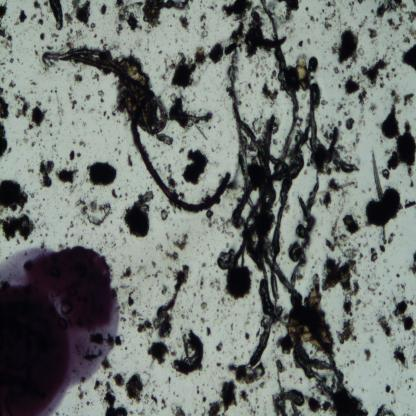Background material: (280, 274, 340, 356), (378, 101, 416, 179), (153, 264, 190, 338), (311, 128, 358, 180), (212, 249, 253, 300), (168, 93, 214, 136), (121, 191, 158, 240), (325, 211, 362, 260), (0, 211, 46, 249), (172, 329, 206, 378), (378, 293, 414, 339), (365, 186, 401, 228), (272, 369, 304, 416), (245, 9, 274, 58), (319, 255, 359, 290), (141, 0, 191, 28), (361, 50, 397, 88), (92, 358, 126, 398), (124, 372, 162, 406), (162, 52, 195, 91), (74, 198, 112, 228), (228, 362, 269, 388), (0, 179, 30, 214), (286, 51, 311, 90), (116, 0, 143, 35), (330, 392, 369, 416), (86, 160, 116, 191), (388, 10, 416, 43), (182, 149, 209, 183), (338, 25, 360, 65), (368, 142, 384, 196), (320, 178, 346, 209), (127, 309, 154, 338), (223, 21, 245, 56), (220, 0, 256, 21), (239, 385, 261, 416), (207, 217, 236, 240), (102, 392, 128, 416), (146, 340, 169, 367), (37, 157, 55, 191), (120, 265, 152, 284), (222, 378, 239, 412), (12, 90, 30, 122), (336, 319, 358, 344), (47, 0, 64, 31), (372, 0, 394, 23), (274, 0, 298, 21), (74, 0, 92, 27), (342, 73, 362, 97), (30, 99, 48, 125), (162, 161, 178, 189), (228, 204, 246, 228), (399, 46, 416, 71), (55, 165, 77, 184), (194, 45, 208, 74), (262, 84, 278, 109), (209, 42, 226, 64), (321, 0, 338, 22), (337, 98, 358, 115), (394, 345, 408, 370), (0, 88, 11, 119), (155, 132, 175, 149), (66, 28, 82, 49), (0, 119, 8, 159), (172, 234, 189, 252), (342, 292, 354, 317), (0, 34, 13, 56), (207, 401, 226, 416), (54, 89, 64, 117), (375, 403, 396, 416), (310, 391, 321, 414), (0, 1, 9, 29), (179, 14, 191, 35), (358, 86, 368, 111), (96, 2, 110, 18), (197, 124, 210, 141), (97, 232, 108, 252), (408, 250, 416, 277), (171, 401, 185, 416), (252, 117, 264, 134), (164, 249, 178, 263), (126, 288, 136, 307), (274, 357, 286, 372), (390, 88, 400, 105), (103, 42, 120, 52), (367, 26, 380, 39), (252, 61, 266, 73), (380, 225, 388, 246), (130, 40, 142, 54), (210, 277, 221, 292), (68, 90, 77, 108), (160, 208, 171, 222), (402, 93, 413, 107), (63, 12, 73, 27), (352, 280, 362, 295), (330, 42, 340, 56), (229, 180, 239, 194), (261, 56, 270, 71), (321, 401, 332, 413), (347, 179, 358, 191), (403, 199, 416, 209), (370, 246, 378, 262), (322, 130, 333, 141), (395, 0, 406, 11), (73, 72, 84, 83), (352, 132, 360, 147), (85, 22, 97, 32), (284, 24, 294, 36), (363, 348, 372, 361), (117, 303, 126, 316), (77, 386, 85, 400), (381, 166, 389, 180), (244, 312, 251, 328), (358, 14, 366, 28), (367, 285, 377, 296), (153, 268, 164, 278), (116, 335, 126, 346), (215, 341, 224, 353), (172, 190, 185, 198), (154, 243, 164, 253), (173, 338, 183, 348), (345, 120, 354, 131), (33, 1, 42, 12), (369, 101, 376, 115), (199, 30, 211, 38), (128, 152, 134, 168), (357, 46, 365, 58), (399, 282, 407, 294), (246, 83, 254, 95), (198, 276, 205, 289), (118, 284, 131, 291), (69, 184, 78, 194), (357, 115, 366, 125), (348, 0, 353, 18), (384, 383, 392, 394), (144, 24, 152, 35), (268, 69, 276, 80), (20, 9, 26, 23), (116, 226, 125, 235), (378, 242, 386, 252), (136, 408, 146, 416), (44, 43, 54, 51), (161, 283, 167, 296), (67, 221, 74, 232), (160, 400, 167, 411), (338, 15, 342, 34), (324, 23, 332, 32), (69, 149, 75, 161), (337, 146, 346, 154), (93, 70, 99, 82), (199, 13, 207, 22), (315, 345, 321, 357), (0, 29, 7, 39), (86, 107, 96, 114), (51, 32, 58, 42), (143, 45, 150, 55), (334, 64, 341, 74), (111, 189, 118, 199), (194, 384, 200, 395), (388, 233, 394, 244), (288, 45, 296, 53), (322, 100, 330, 108), (344, 154, 352, 162), (298, 39, 306, 47), (150, 407, 158, 415), (29, 78, 37, 86), (98, 89, 106, 97), (119, 316, 127, 324), (8, 80, 16, 88), (346, 62, 354, 70), (201, 302, 208, 311), (51, 143, 58, 152), (221, 314, 228, 323), (200, 318, 210, 324), (220, 294, 226, 304), (168, 352, 178, 358), (207, 4, 217, 10), (310, 13, 316, 23), (254, 328, 260, 338), (371, 37, 378, 45), (412, 330, 416, 344), (84, 94, 91, 102), (155, 65, 162, 73), (76, 66, 84, 73), (35, 129, 42, 137), (30, 13, 37, 21), (165, 272, 172, 280), (109, 110, 116, 118), (327, 122, 334, 130), (207, 326, 212, 337), (208, 210, 214, 219), (22, 136, 28, 145), (151, 259, 157, 268), (0, 60, 6, 69), (172, 204, 177, 214), (27, 168, 34, 175), (37, 19, 44, 26), (42, 0, 49, 7), (305, 160, 313, 166), (412, 352, 416, 364), (164, 231, 170, 239), (110, 240, 116, 248), (27, 125, 35, 131), (56, 119, 62, 127), (92, 32, 98, 40), (410, 180, 416, 188), (47, 96, 53, 104), (123, 352, 129, 360), (369, 336, 375, 344), (101, 108, 107, 116), (152, 155, 160, 161), (7, 145, 12, 154), (202, 405, 206, 416), (200, 22, 206, 29), (231, 338, 237, 345), (7, 57, 14, 63), (167, 265, 174, 271), (355, 299, 361, 306), (14, 20, 20, 27), (79, 141, 86, 147), (178, 147, 185, 153), (78, 235, 84, 242), (29, 190, 34, 198), (85, 176, 90, 184), (69, 61, 77, 66), (167, 375, 171, 385), (273, 138, 278, 146), (183, 136, 188, 144), (216, 115, 221, 123), (41, 240, 46, 248), (246, 332, 251, 340), (240, 350, 244, 359), (8, 69, 14, 75), (85, 400, 91, 406), (98, 38, 104, 44), (216, 145, 222, 151), (39, 12, 45, 18), (361, 301, 367, 307), (202, 395, 207, 402), (127, 255, 132, 262), (63, 160, 70, 165), (216, 362, 223, 367), (215, 389, 220, 396), (173, 36, 178, 43), (218, 130, 223, 137), (30, 141, 35, 148), (321, 124, 325, 132), (307, 38, 311, 46), (194, 406, 198, 414), (80, 179, 84, 187), (34, 49, 38, 57), (40, 33, 44, 41), (396, 283, 400, 291), (230, 323, 234, 331), (40, 153, 44, 161), (76, 404, 80, 412), (256, 71, 260, 79), (16, 238, 20, 246), (289, 362, 294, 368), (391, 399, 397, 404), (396, 272, 401, 278), (375, 281, 380, 287), (181, 314, 186, 320), (64, 197, 69, 203), (287, 373, 292, 379), (244, 103, 250, 108), (202, 262, 207, 268), (55, 410, 60, 416), (186, 412, 193, 416), (349, 360, 356, 364), (192, 291, 196, 298), (200, 294, 204, 301), (389, 338, 396, 342), (1, 76, 5, 83), (46, 14, 50, 21), (100, 98, 105, 103), (233, 355, 238, 360), (83, 391, 88, 396), (238, 101, 243, 106), (344, 22, 349, 27), (351, 388, 355, 394), (187, 314, 191, 320), (77, 152, 81, 158), (120, 193, 124, 199), (354, 201, 358, 207), (197, 371, 201, 377), (189, 308, 193, 314), (338, 82, 342, 88), (183, 288, 187, 294), (82, 122, 86, 128), (139, 342, 143, 348), (180, 179, 184, 185), (410, 376, 414, 382), (99, 128, 103, 134), (122, 238, 126, 244), (116, 119, 120, 125), (172, 12, 176, 18), (198, 269, 201, 277), (207, 126, 213, 130), (90, 188, 94, 194), (226, 243, 230, 249), (374, 272, 377, 280), (304, 169, 307, 176), (305, 7, 309, 12), (366, 273, 370, 278), (157, 49, 162, 53), (306, 24, 310, 29), (124, 192, 128, 197), (115, 157, 119, 162), (338, 121, 342, 126), (30, 240, 34, 245), (40, 137, 44, 142), (358, 0, 363, 4), (114, 147, 118, 152), (156, 44, 160, 49), (146, 38, 150, 43), (218, 309, 223, 313), (168, 23, 172, 28), (145, 61, 149, 66), (130, 411, 134, 416), (361, 388, 365, 393), (17, 59, 21, 64), (370, 8, 375, 12), (117, 141, 122, 145), (70, 233, 74, 238), (26, 158, 30, 163), (384, 258, 388, 263), (409, 384, 412, 390), (50, 88, 53, 94), (387, 267, 390, 273), (412, 0, 415, 6), (118, 149, 121, 155), (337, 346, 340, 352), (196, 28, 199, 34), (248, 350, 251, 356), (134, 152, 138, 156), (361, 313, 365, 317), (149, 175, 153, 179), (49, 123, 53, 127), (324, 66, 328, 70), (38, 142, 42, 146), (326, 115, 330, 119), (80, 106, 84, 110), (148, 287, 152, 291), (392, 46, 396, 50), (211, 148, 215, 152), (370, 322, 374, 326), (200, 0, 202, 8), (310, 350, 314, 354), (354, 308, 358, 312), (210, 386, 214, 390), (60, 215, 63, 220), (365, 278, 368, 283), (345, 380, 348, 385), (365, 327, 368, 332), (379, 291, 382, 296), (252, 301, 255, 306), (71, 121, 74, 126), (341, 69, 344, 74), (107, 116, 110, 121), (375, 312, 378, 317), (104, 137, 107, 142), (24, 131, 27, 136), (124, 346, 127, 351), (218, 299, 220, 306), (316, 18, 319, 22), (55, 70, 58, 74), (76, 174, 79, 178), (88, 145, 91, 149), (406, 412, 409, 416), (92, 130, 96, 133), (391, 390, 394, 394), (233, 346, 236, 350), (173, 392, 176, 396), (387, 46, 390, 50), (221, 366, 224, 370), (197, 314, 200, 318), (34, 44, 37, 48), (211, 253, 214, 257), (180, 324, 182, 330), (45, 233, 48, 237), (164, 32, 167, 36), (125, 196, 128, 200), (126, 178, 129, 182), (50, 131, 52, 136), (162, 151, 164, 156), (110, 219, 112, 224), (66, 234, 68, 239), (118, 186, 120, 191), (62, 68, 64, 73), (56, 153, 58, 158), (348, 362, 350, 367), (389, 279, 391, 284), (201, 252, 204, 255), (411, 393, 414, 396), (405, 380, 408, 383), (216, 309, 219, 312), (176, 395, 179, 398), (241, 345, 244, 348), (227, 310, 230, 313), (202, 383, 205, 386), (147, 187, 150, 190), (381, 274, 384, 277), (118, 135, 120, 139), (60, 156, 62, 160), (362, 276, 364, 280), (358, 274, 360, 278), (390, 34, 392, 38), (215, 263, 217, 267), (43, 144, 45, 148), (132, 143, 134, 147), (78, 133, 80, 137), (187, 48, 189, 52), (344, 362, 346, 366), (409, 336, 411, 340), (207, 365, 209, 369), (28, 164, 30, 168), (169, 42, 171, 45), (182, 306, 184, 309), (74, 142, 76, 145), (89, 156, 91, 159), (322, 32, 324, 35), (368, 301, 370, 304), (235, 314, 238, 316), (165, 36, 168, 38), (404, 337, 406, 340), (81, 406, 83, 409), (66, 242, 68, 245), (194, 321, 196, 324), (60, 161, 62, 164), (84, 104, 86, 106), (208, 242, 209, 246), (231, 332, 233, 334), (159, 288, 161, 290), (146, 306, 148, 308), (187, 101, 189, 103), (157, 284, 158, 287), (377, 328, 378, 331), (56, 158, 57, 160), (202, 330, 204, 331), (215, 127, 216, 128)
Cellulose filter fibre: (44, 45, 168, 134), (238, 83, 301, 258), (224, 52, 254, 206), (290, 176, 324, 282), (288, 336, 344, 395), (249, 253, 273, 374), (272, 179, 294, 297), (262, 0, 286, 80), (308, 78, 319, 158)
Diatom: (309, 57, 319, 68)
Microfibre: (128, 116, 231, 214)
Pen: (0, 246, 119, 416)
